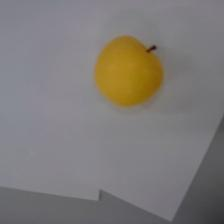yellow: (94, 34, 163, 107)
